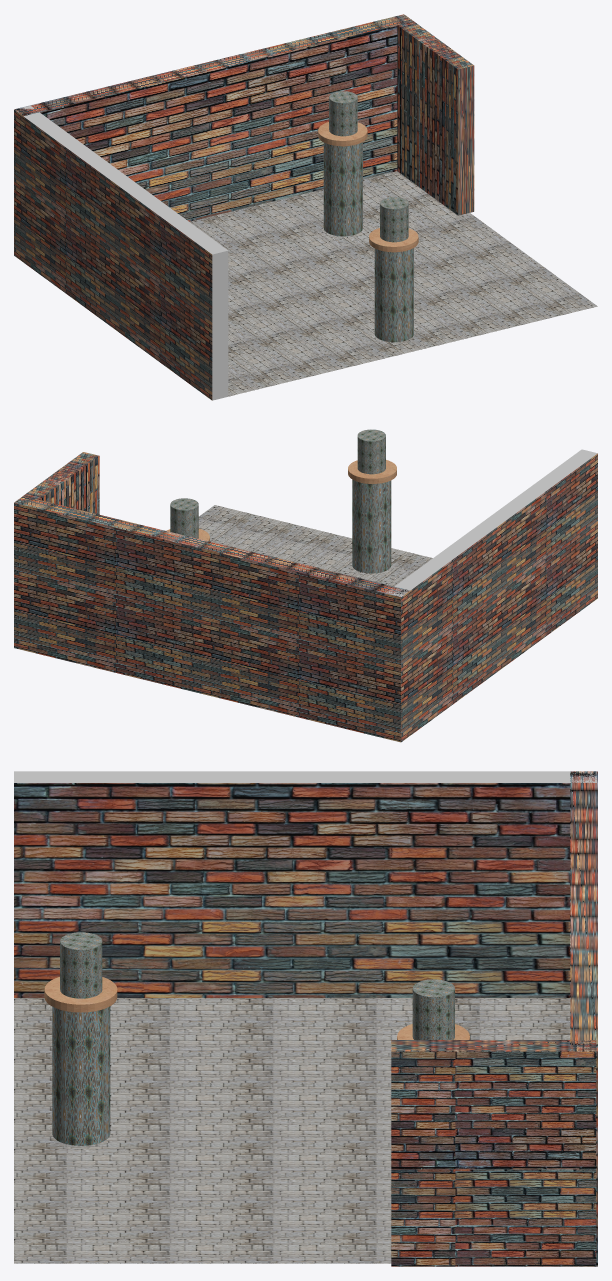
Rendered from Persian_ArmyBuilding_OnContruction.fbx.
3 views of the same model, one above another, from view 1: azimuth 30°, elevation 25°; view 2: azimuth 150°, elevation 25°; view 3: azimuth 270°, elevation 25° (orthographic). The views are drawn at different scales.
Visible parts, largest first — view 1: Plane.001, Cube.018, Cube.016, Cube.014, Cylinder.037, Cylinder.032, Cylinder.035, Cylinder.034, Cylinder.036, Cylinder.033; view 2: Cube.018, Cube.016, Plane.001, Cylinder.032, Cube.014, Cylinder.034, Cylinder.035, Cylinder.033; view 3: Cube.016, Plane.001, Cube.014, Cube.018, Cylinder.032, Cylinder.034, Cylinder.035, Cylinder.033.
Boxes of the visible parts, box(x1,y1,x2,y2) form: Plane.001: box(190, 171, 597, 396); Cube.018: box(14, 14, 412, 255); Cube.016: box(14, 105, 228, 400); Cube.014: box(390, 14, 474, 215); Cylinder.037: box(323, 142, 362, 236); Cylinder.032: box(374, 248, 413, 342); Cylinder.035: box(329, 91, 357, 136); Cylinder.034: box(380, 197, 408, 242); Cylinder.036: box(318, 122, 367, 146); Cylinder.033: box(369, 228, 418, 252); Cube.018: box(14, 496, 409, 742); Cube.016: box(386, 449, 597, 741); Plane.001: box(198, 505, 432, 586); Cylinder.032: box(352, 480, 391, 573); Cube.014: box(14, 452, 99, 514); Cylinder.034: box(357, 429, 385, 474); Cylinder.035: box(170, 498, 198, 538); Cylinder.033: box(348, 460, 396, 483); Cube.016: box(14, 771, 596, 997); Plane.001: box(14, 998, 570, 1263); Cube.014: box(391, 1040, 596, 1266); Cube.018: box(570, 771, 597, 1266); Cylinder.032: box(52, 1006, 110, 1145); Cylinder.034: box(60, 932, 102, 998); Cylinder.035: box(412, 979, 454, 1039); Cylinder.033: box(44, 977, 117, 1012).
Bounding box in the file's own units: 1031 × 369 × 907.
